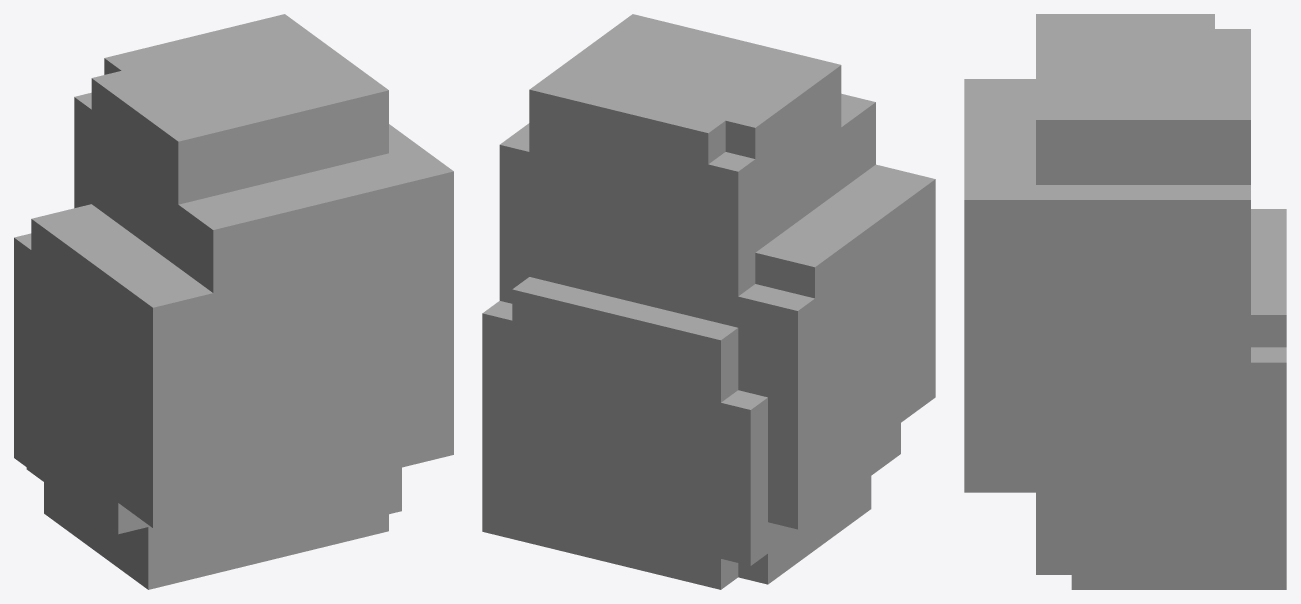
Rendered from gorilla-4-L_Forearm.obj.
The picture shows the model from 3 angles, left to right: view 1: azimuth 30°, elevation 25°; view 2: azimuth 150°, elevation 25°; view 3: azimuth 270°, elevation 25°; orthographic projection. The views are drawn at different scales.
Visible parts, largest first — view 1: L_Forearm; view 2: L_Forearm; view 3: L_Forearm.
Boxes of the visible parts, left/top/right/bottom form: L_Forearm: left=14, top=14, right=453, bottom=589; L_Forearm: left=482, top=14, right=935, bottom=589; L_Forearm: left=964, top=14, right=1286, bottom=589.
Size of the model in its own units: 1 by 1.4 by 0.9.
Materials: 1 (1 with a texture image).
